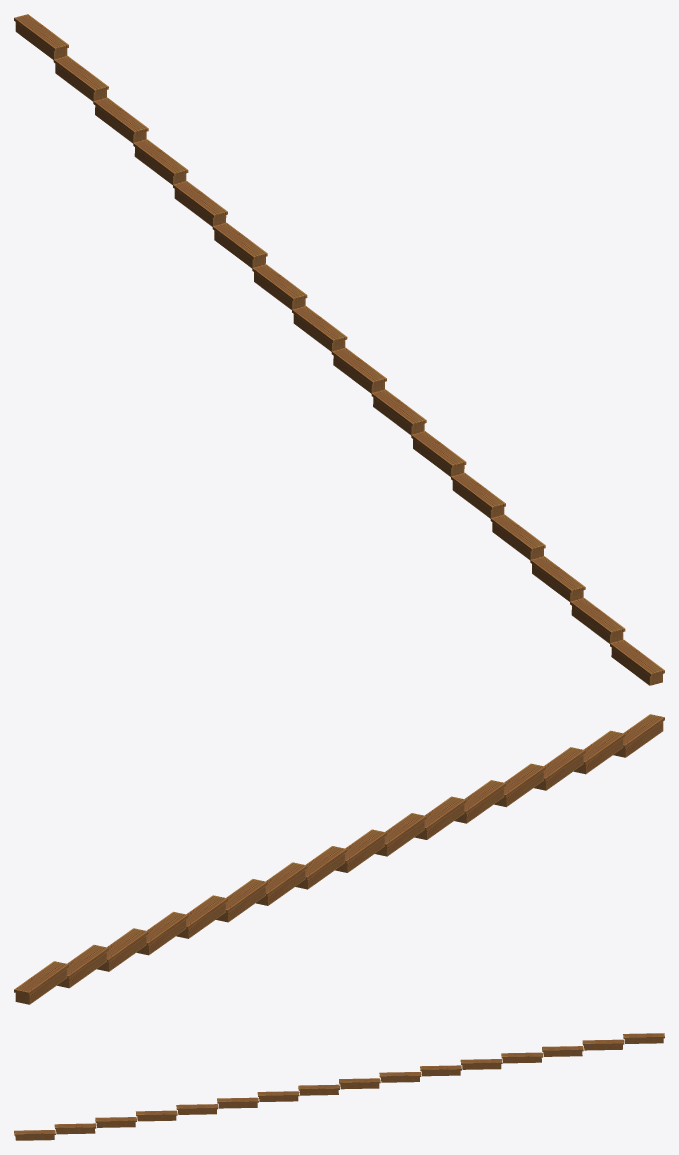
3 renders of one model, top to bottom at view 1: azimuth 30°, elevation 25°; view 2: azimuth 150°, elevation 25°; view 3: azimuth 270°, elevation 25°, orthographic. The views are drawn at different scales.
Parts seen in each view (by area): view 1: Cube.780; view 2: Cube.780; view 3: Cube.780.
Boxes of the visible parts, x1,y1,x2,y2 form: Cube.780: [14, 14, 664, 685]; Cube.780: [14, 714, 664, 1004]; Cube.780: [14, 1033, 664, 1140].
Bounding box in the file's own units: 47.29 × 614 × 3479.
1 material, 1 textured.
